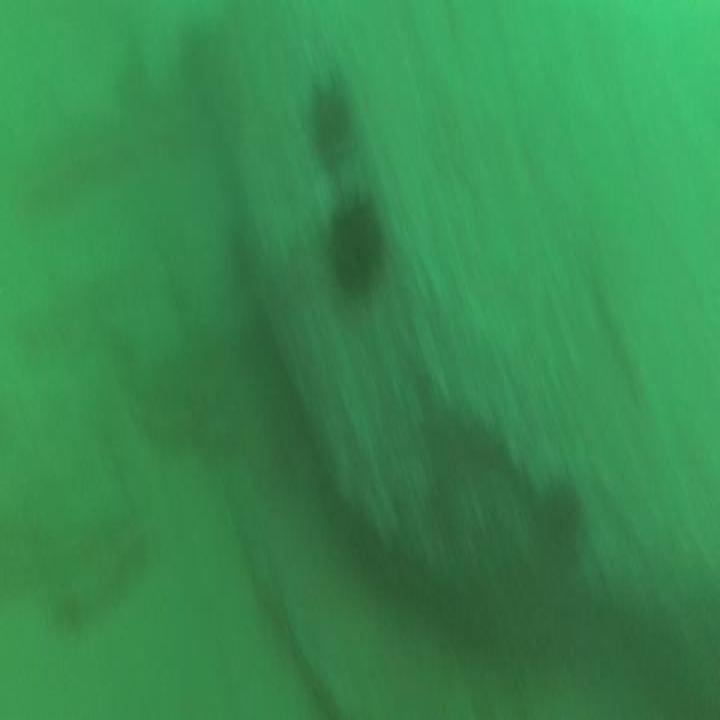echinus: (320, 181, 392, 311), (296, 70, 361, 180)
